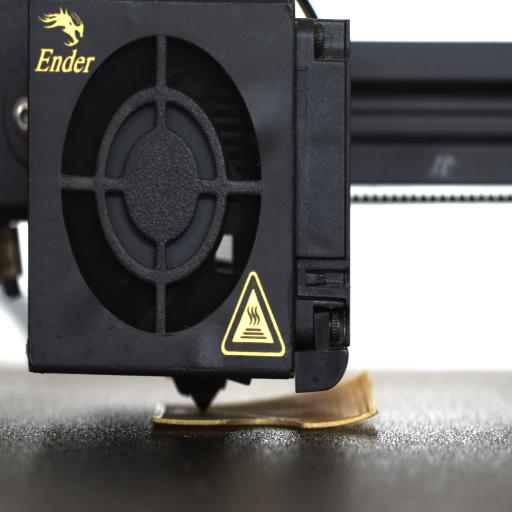warp: (310, 404, 386, 436), (146, 414, 173, 436)
